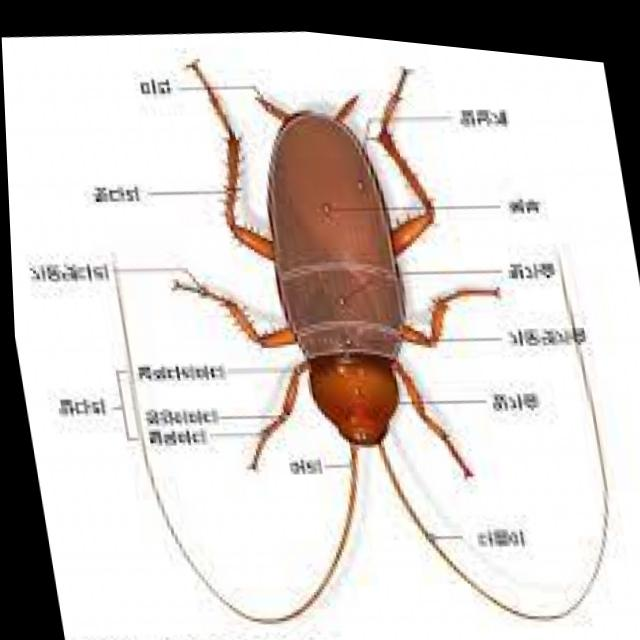Cockroach: (79, 6, 633, 640)
